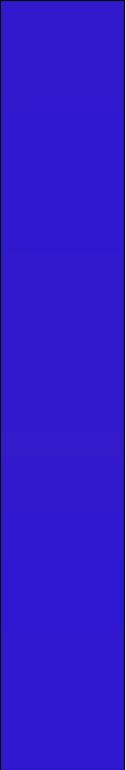safe: (9, 1, 119, 766)
